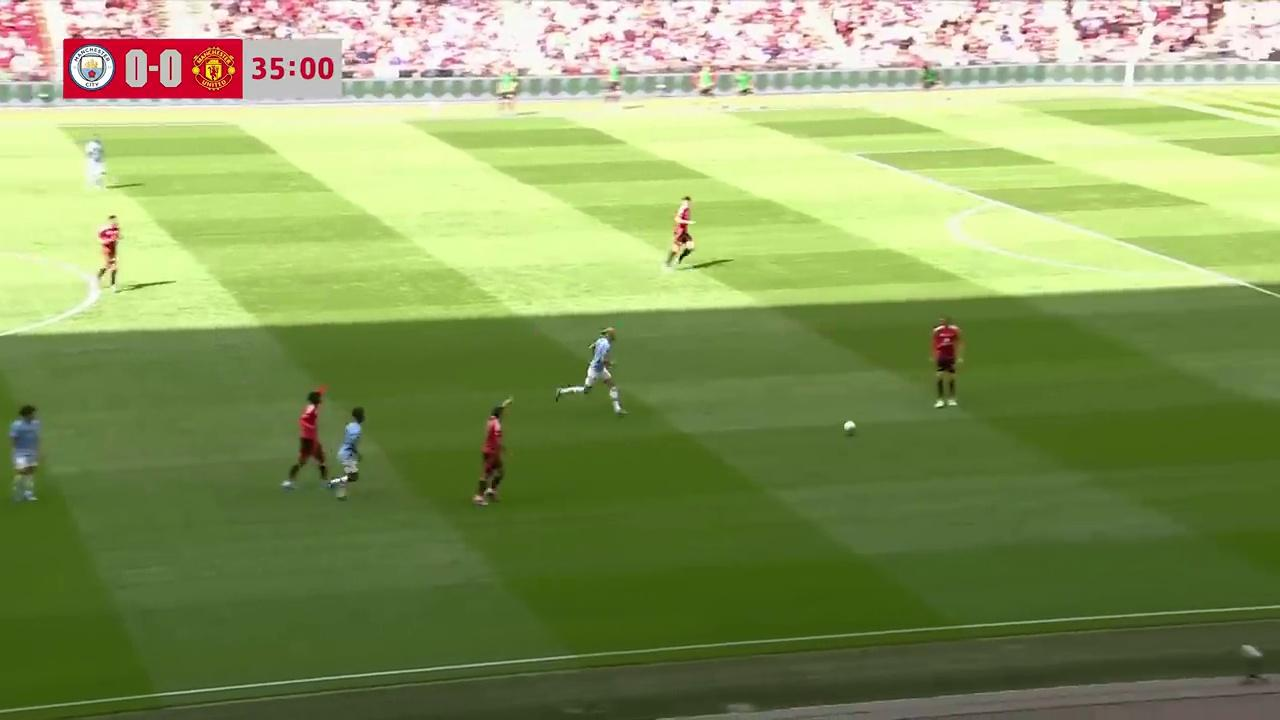ball: (842, 417, 857, 435)
player: (282, 390, 334, 492), (567, 327, 627, 414), (473, 400, 511, 505), (7, 404, 42, 503), (930, 316, 964, 410), (331, 407, 365, 496), (663, 195, 695, 269), (95, 214, 122, 294), (84, 137, 107, 189)
